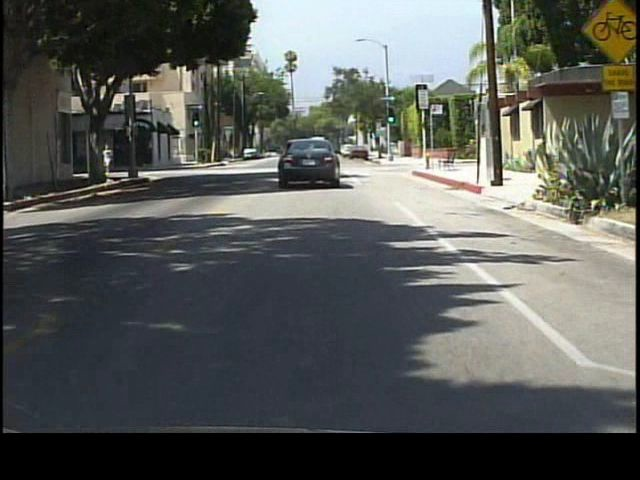person: (105, 140, 116, 177)
